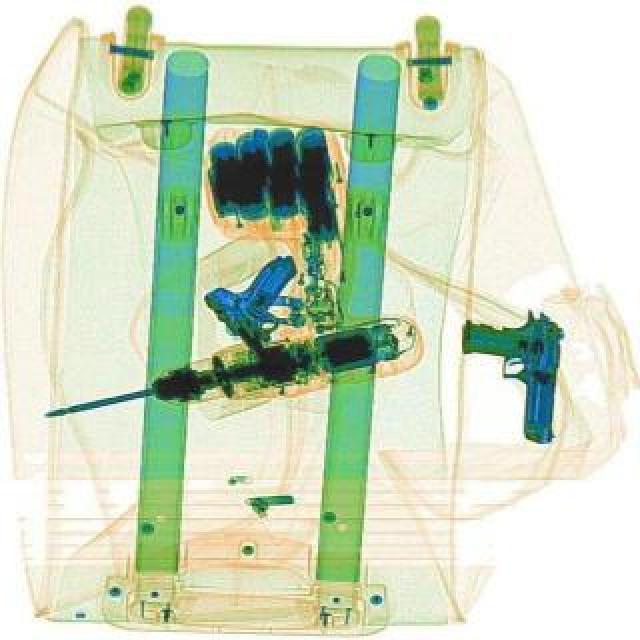gun: (194, 236, 342, 372), (450, 306, 562, 444)
